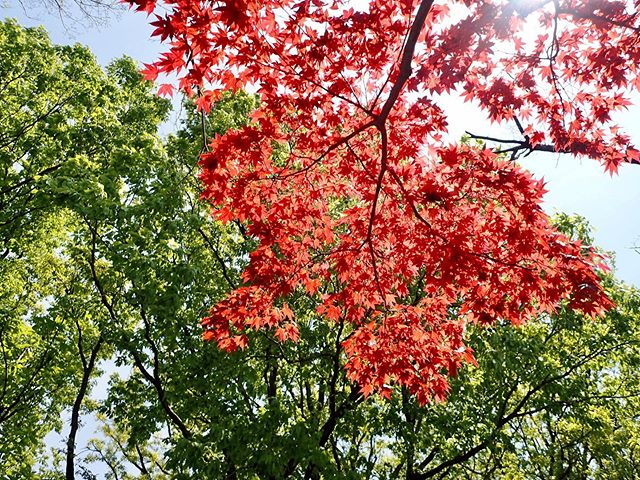vegetation: (1, 1, 635, 476)
